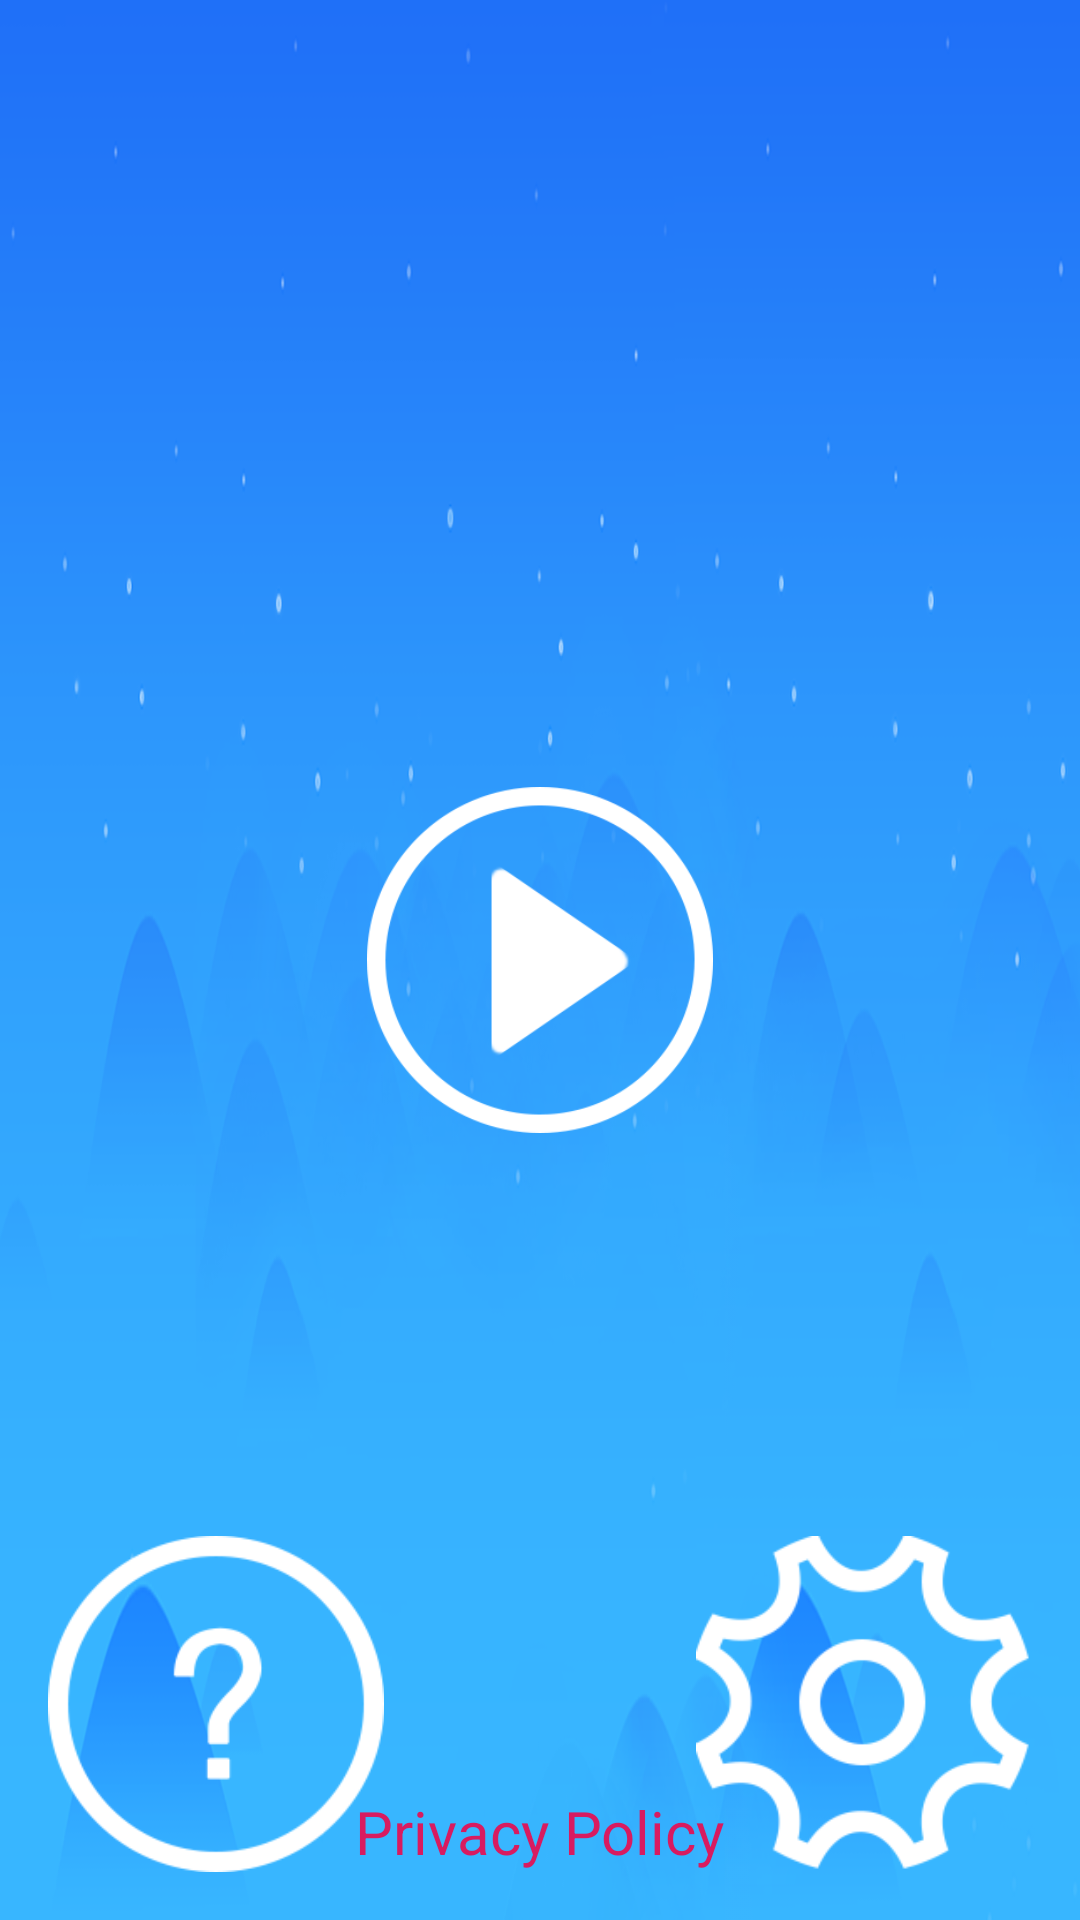

Icons on this 1080×1920 Android screen, each with the point to tap as (x=x, y=y):
help: (x=216, y=1704)
settings: (x=862, y=1702)
start: (x=540, y=960)
